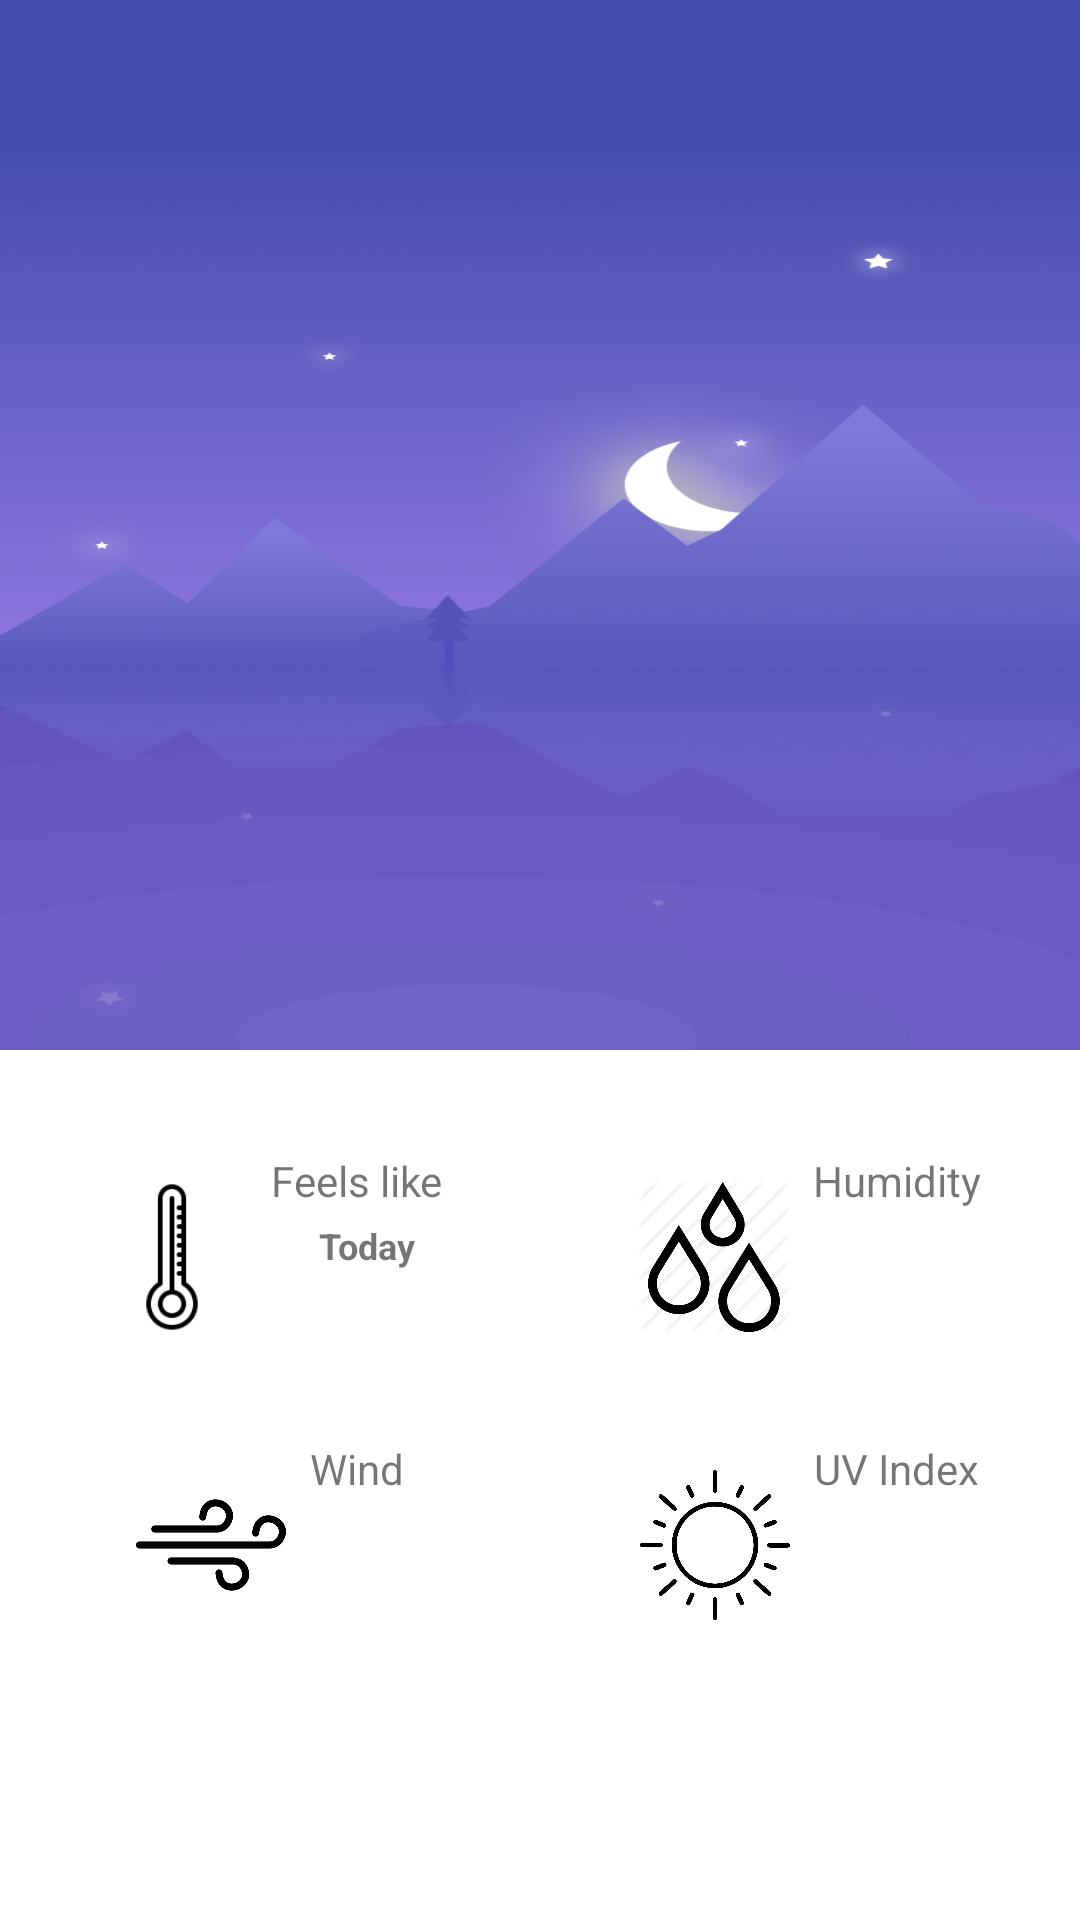

Screen size 1080px x 1920px. Icon name, then its center in pixels as [x,y]:
sun: [715,1545]
thermometer: [172,1257]
